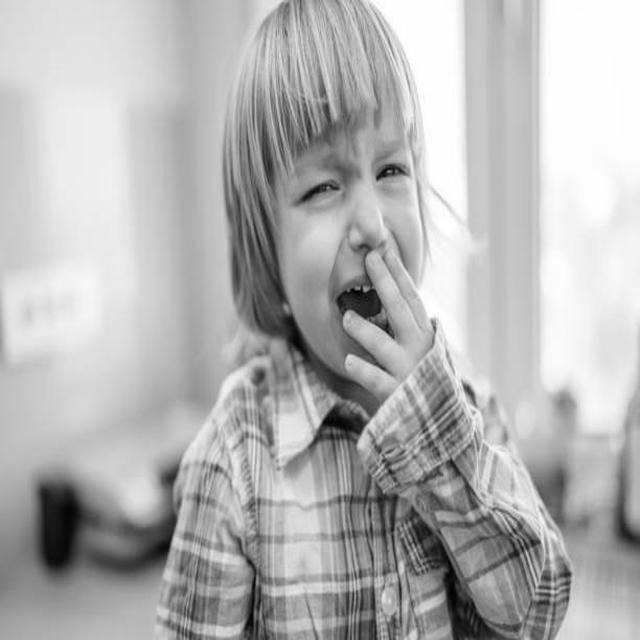Sadness: (275, 92, 425, 381)
